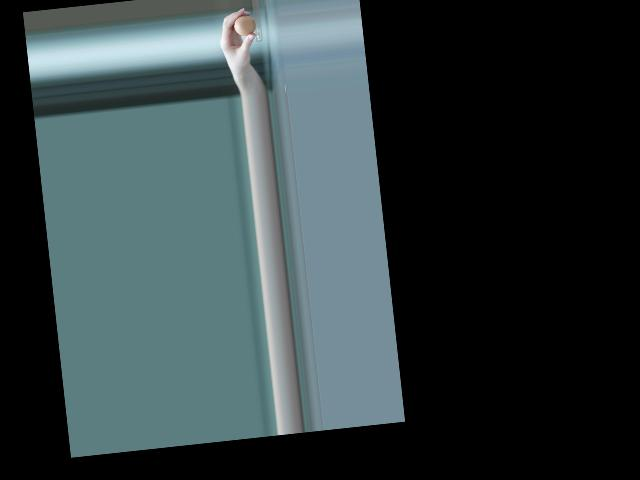egg: (233, 14, 257, 37)
